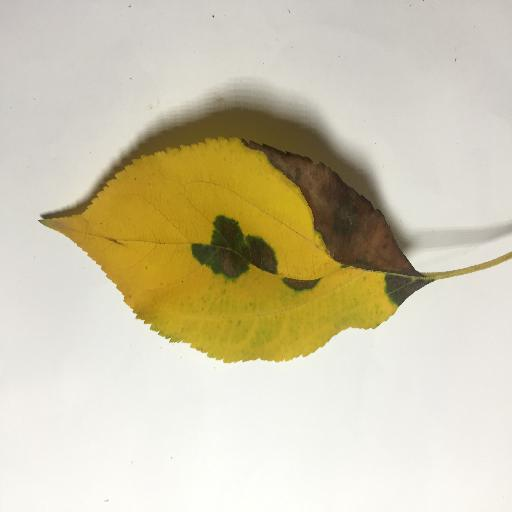Brown_Spot: (256, 150, 416, 282), (201, 219, 278, 276), (285, 279, 316, 291)
